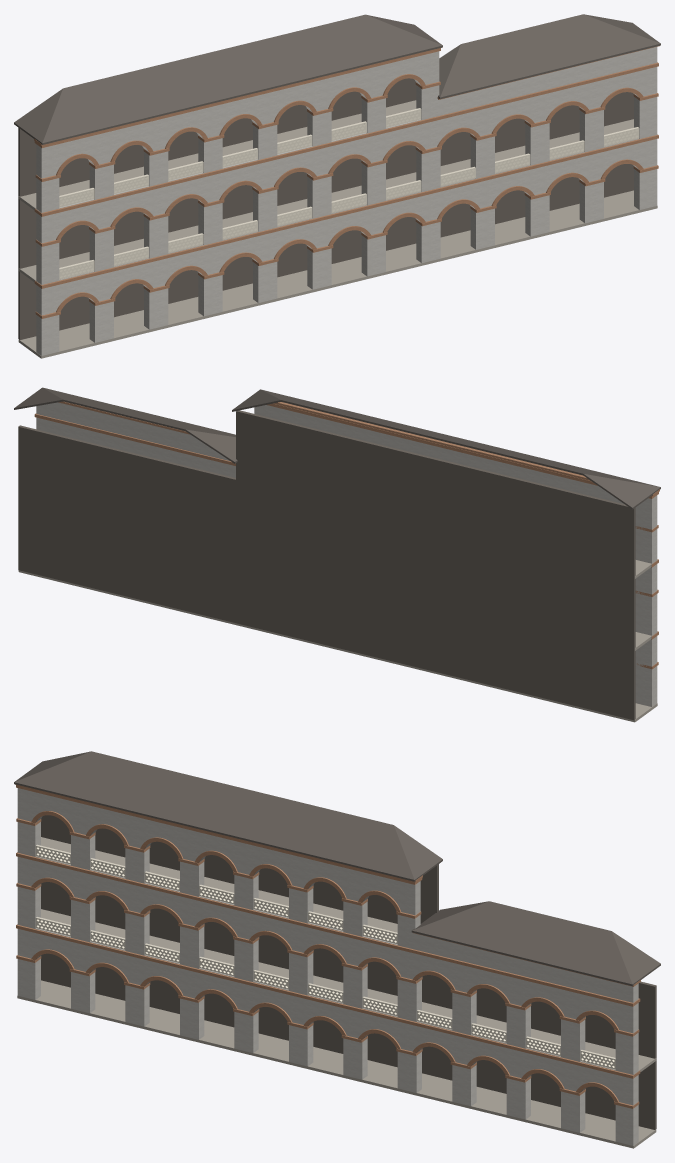
Rendered from full-source.glb.
3 renders of one model, top to bottom at view 1: azimuth 30°, elevation 25°; view 2: azimuth 150°, elevation 25°; view 3: azimuth 330°, elevation 25°, orthographic.
Parts seen in each view (by area): view 1: 圣约翰大学思颜堂四十号楼草坪前廊; view 2: 圣约翰大学思颜堂四十号楼草坪前廊; view 3: 圣约翰大学思颜堂四十号楼草坪前廊.
Part boxes in pixels (left/top/right/bottom): 圣约翰大学思颜堂四十号楼草坪前廊: left=14, top=14, right=660, bottom=358; 圣约翰大学思颜堂四十号楼草坪前廊: left=14, top=387, right=660, bottom=722; 圣约翰大学思颜堂四十号楼草坪前廊: left=14, top=751, right=660, bottom=1148.
Size of the model in its own units: 43.02 by 15.92 by 3.42.
6 materials, 2 textured.
